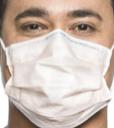with_mask: (1, 2, 114, 128)
